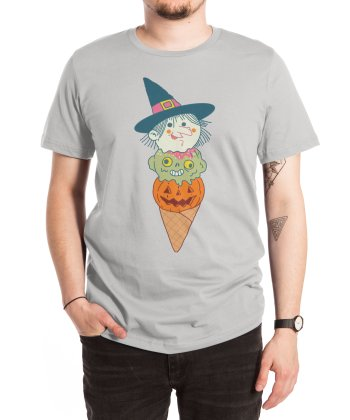design: (130, 73, 219, 256)
